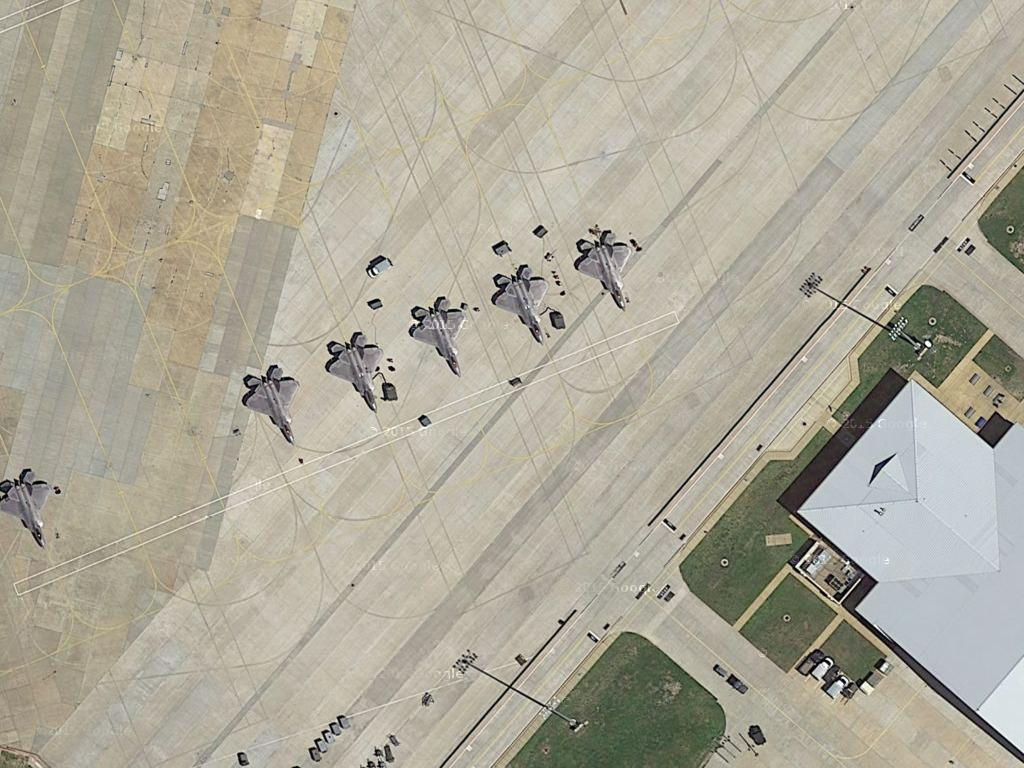F-22: (488, 258, 554, 346), (405, 292, 470, 381), (235, 364, 303, 449), (321, 332, 390, 414), (567, 228, 635, 311), (1, 462, 60, 550)
